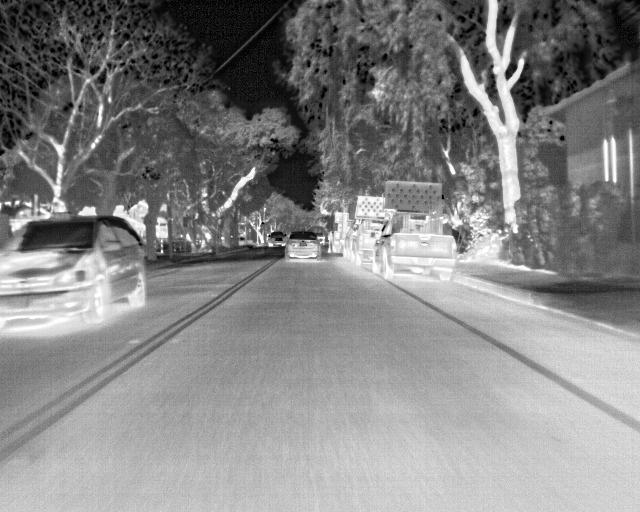car: (0, 214, 145, 324), (373, 179, 459, 281), (349, 191, 380, 263), (283, 229, 321, 261), (266, 230, 286, 248), (238, 236, 255, 250), (317, 233, 327, 245)
